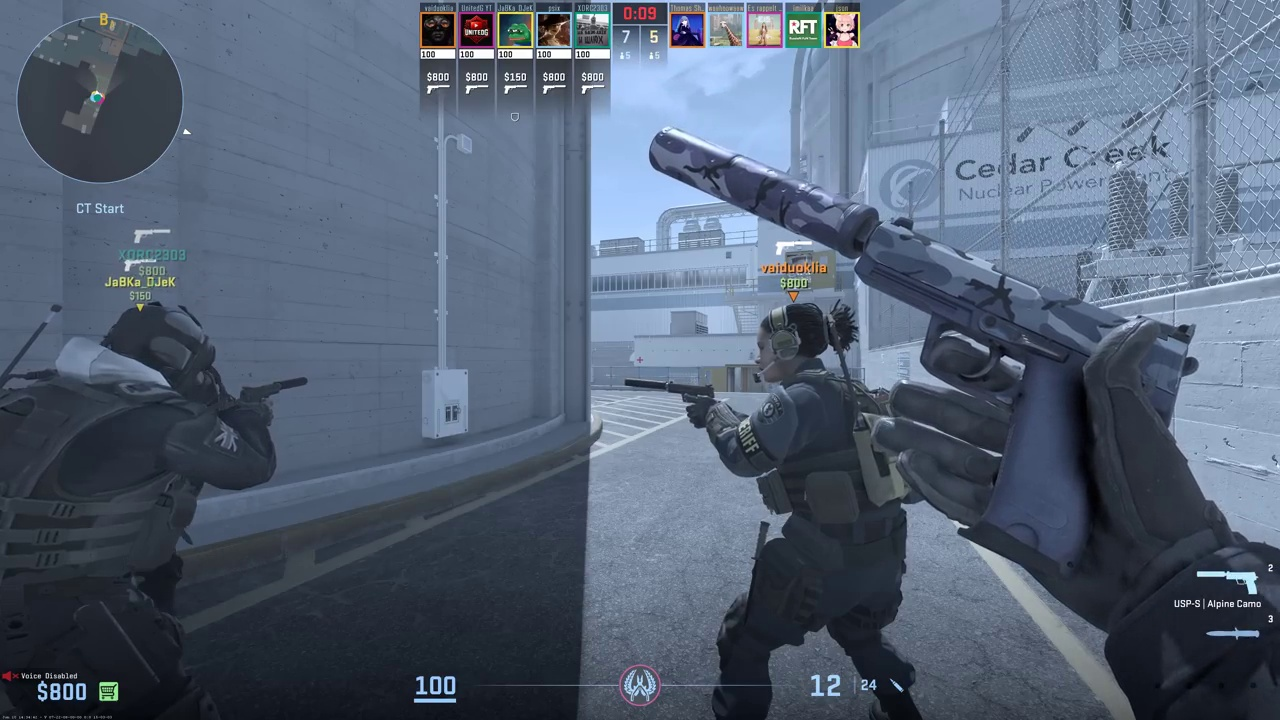CT: (8, 306, 247, 719), (718, 303, 905, 719)
